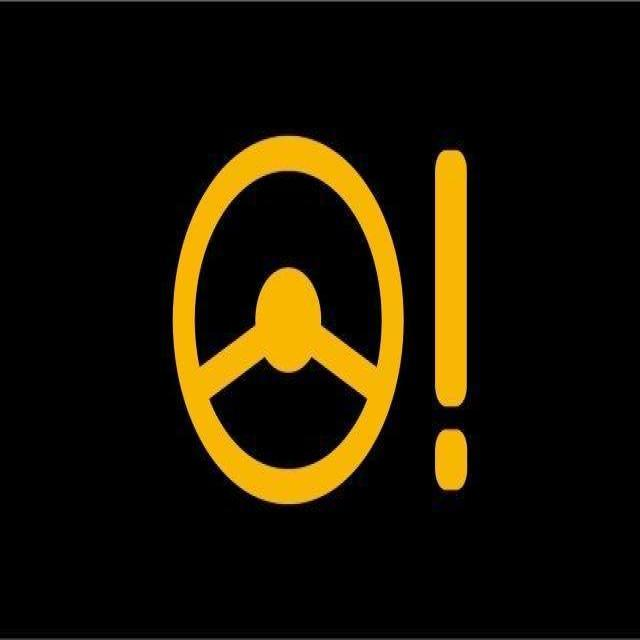kontrolka: (146, 106, 510, 531)
